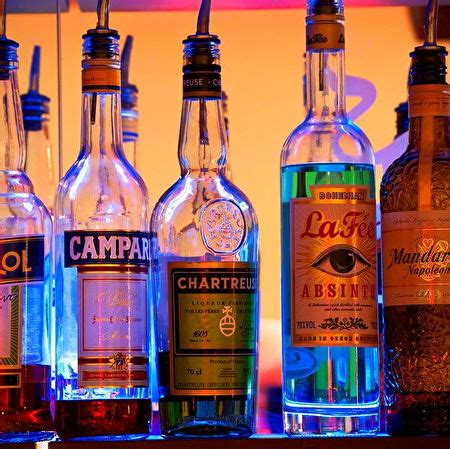alcohol: (276, 3, 384, 441), (159, 4, 264, 446), (66, 1, 153, 437), (381, 0, 448, 440), (1, 2, 60, 445), (20, 36, 54, 440), (116, 27, 141, 200)
